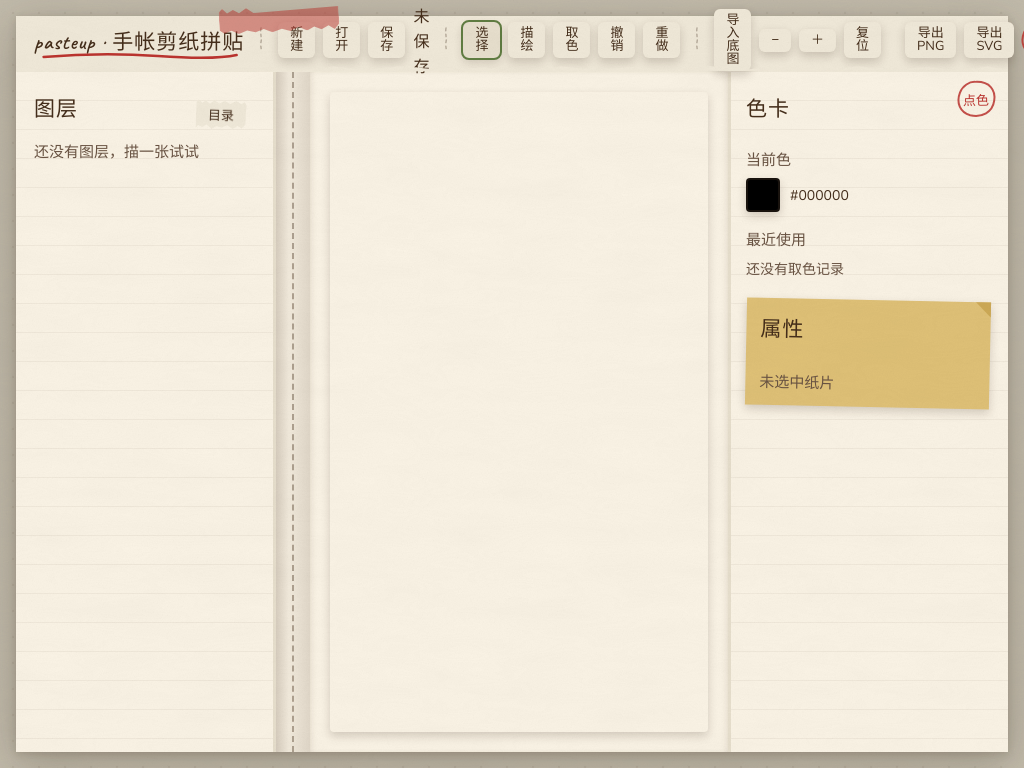
Test case: App 导出盖朱红图章（T16 seam 4）— 点导出盖 Pasteup 图章 › 点「导出 PNG」→ 出现 Pasteup 图章（class stamp + stamped），下载仍触发
The width and height of the screenshot is (1024, 768).
Click the button with test id "export-png" at (931, 40), box [905,22,956,58]
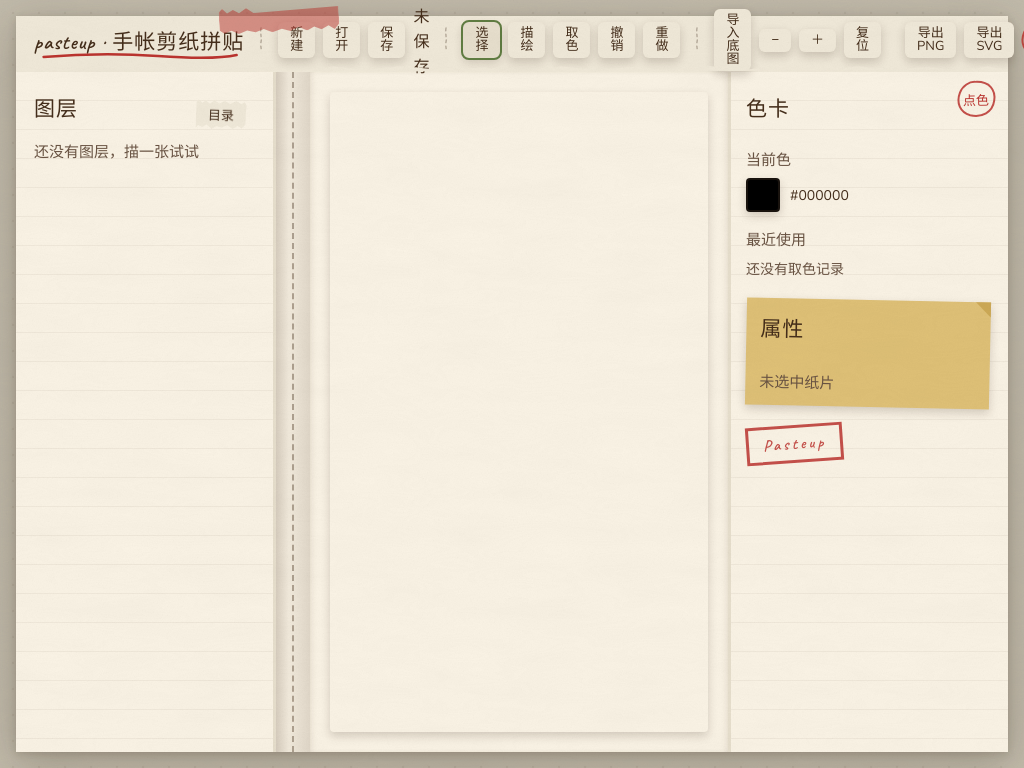
Now the text "Pasteup" is shown, box [745,422,844,466]
Now the text with test id "export-stamp" reads "Pasteup", box [762,432,827,456]
